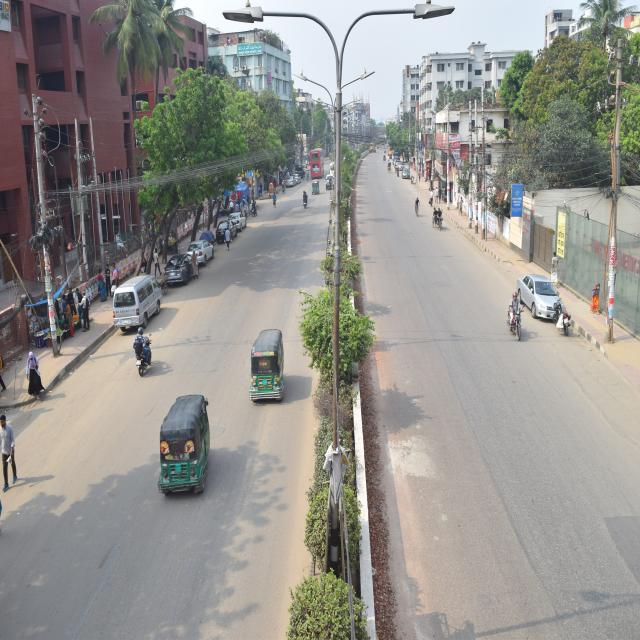bus: (304, 145, 329, 187)
car: (520, 275, 564, 317), (158, 240, 196, 282), (193, 226, 211, 269), (215, 219, 234, 239), (282, 172, 297, 196), (230, 207, 246, 225), (320, 174, 338, 188)
microbus: (117, 275, 170, 331)
motorbike: (129, 332, 162, 382), (548, 302, 573, 341), (511, 301, 531, 342), (299, 186, 312, 214)
